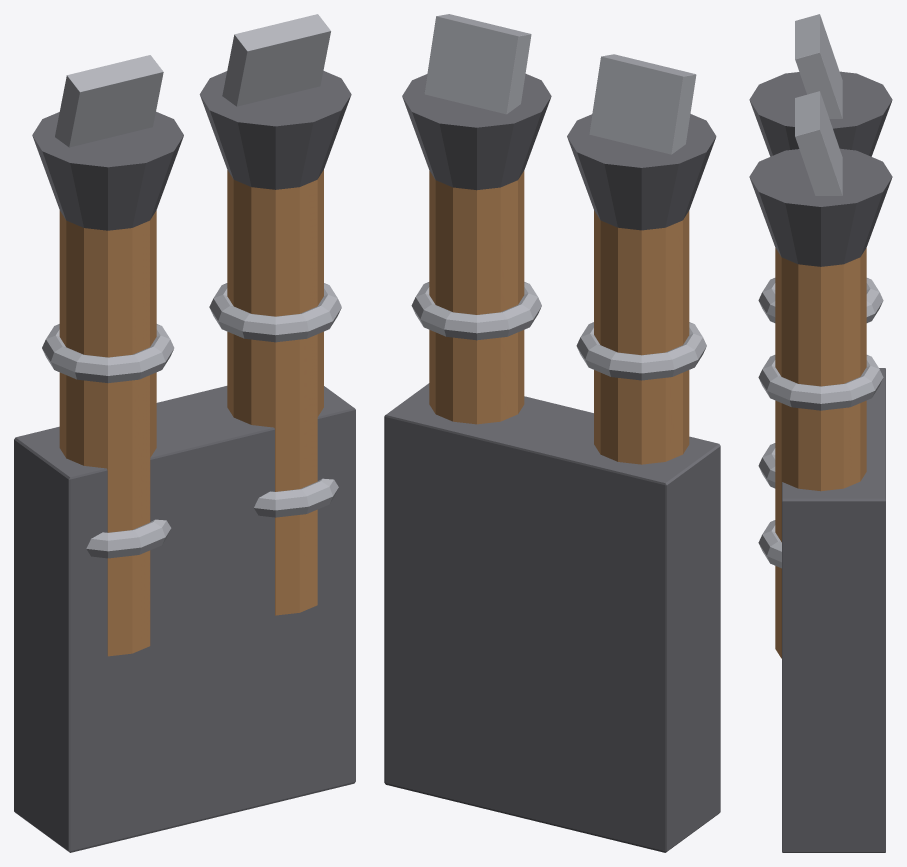
File: stack-pipes.glb
The picture shows the model from 3 angles, left to right: view 1: azimuth 30°, elevation 25°; view 2: azimuth 150°, elevation 25°; view 3: azimuth 270°, elevation 25°; orthographic projection. The views are drawn at different scales.
Visible parts, largest first — view 1: frame, stack-0.07, stack0.07, flare0.07, flare-0.07, flap-0.07, flap0.07, band20.07, band2-0.07, band-0.07, band0.07; view 2: frame, stack-0.07, stack0.07, flare-0.07, flare0.07, flap0.07, flap-0.07, band20.07, band2-0.07; view 3: frame, stack0.07, flare0.07, flare-0.07, flap0.07, band20.07, flap-0.07, band2-0.07, band0.07, band-0.07.
Boxes of the visible parts, <box> form: frame: <box>14,386,355,852</box>; stack-0.07: <box>59,210,156,656</box>; stack0.07: <box>227,170,323,615</box>; flare0.07: <box>199,71,351,189</box>; flare-0.07: <box>32,111,183,230</box>; flap-0.07: <box>55,55,163,147</box>; flap0.07: <box>222,14,330,106</box>; band20.07: <box>209,283,341,342</box>; band2-0.07: <box>42,324,174,383</box>; band-0.07: <box>86,519,171,558</box>; band0.07: <box>254,478,338,517</box>; frame: <box>384,383,720,852</box>; stack-0.07: <box>594,210,689,464</box>; stack0.07: <box>429,170,524,424</box>; flare-0.07: <box>567,114,716,230</box>; flare0.07: <box>402,74,551,190</box>; flap0.07: <box>424,14,531,114</box>; flap-0.07: <box>589,54,696,154</box>; band20.07: <box>411,282,541,340</box>; band2-0.07: <box>576,322,706,380</box>; frame: <box>782,368,885,852</box>; stack0.07: <box>775,248,866,658</box>; flare0.07: <box>749,148,892,266</box>; flare-0.07: <box>749,71,892,156</box>; flap0.07: <box>795,91,842,195</box>; band20.07: <box>758,355,883,410</box>; flap-0.07: <box>795,14,842,118</box>; band2-0.07: <box>758,278,883,322</box>; band0.07: <box>758,520,781,568</box>; band-0.07: <box>758,443,775,488</box>.
Size of the model in its own units: 0.25 by 0.6064 by 0.11.
